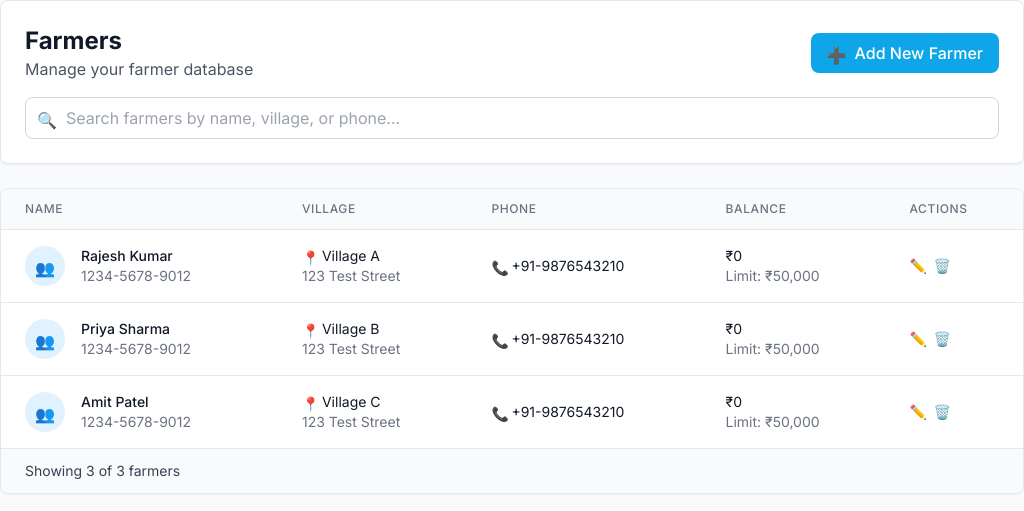
FarmerList Component › Search Functionality › should show no results message when no farmers match search
Type "NonExistentFarmer" into the field with placeholder "Search farmers by name, village, or phone..." at [512, 118], box [25,97,999,139]
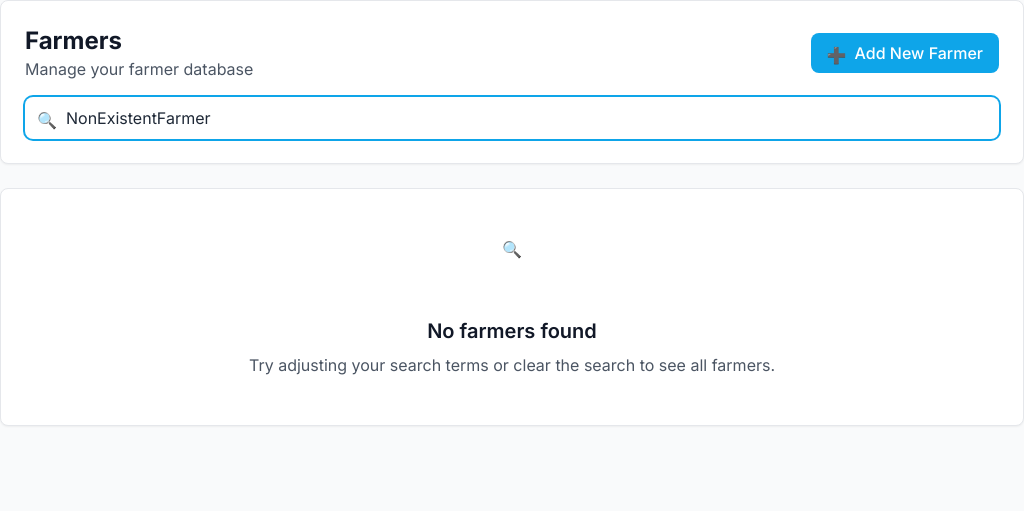
Expected: the heading "No farmers found" is shown, [427,319,597,343]
